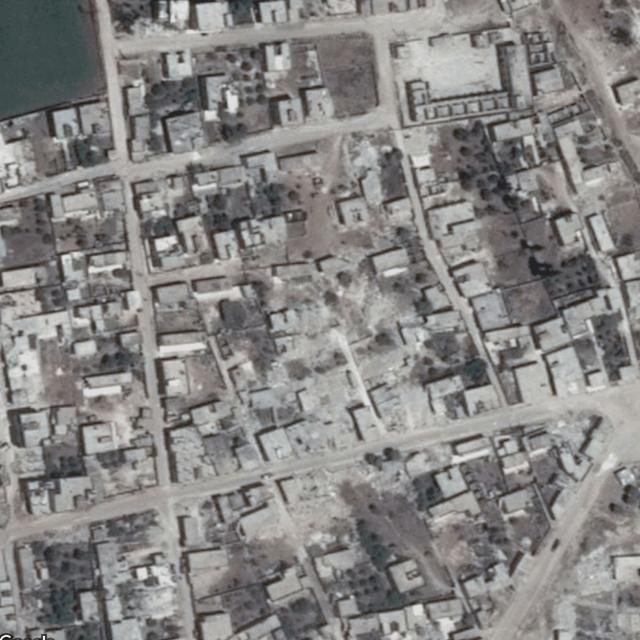damaged_building: (277, 266, 436, 454), (290, 458, 416, 545), (338, 129, 392, 180), (120, 582, 173, 622), (541, 412, 597, 447)
